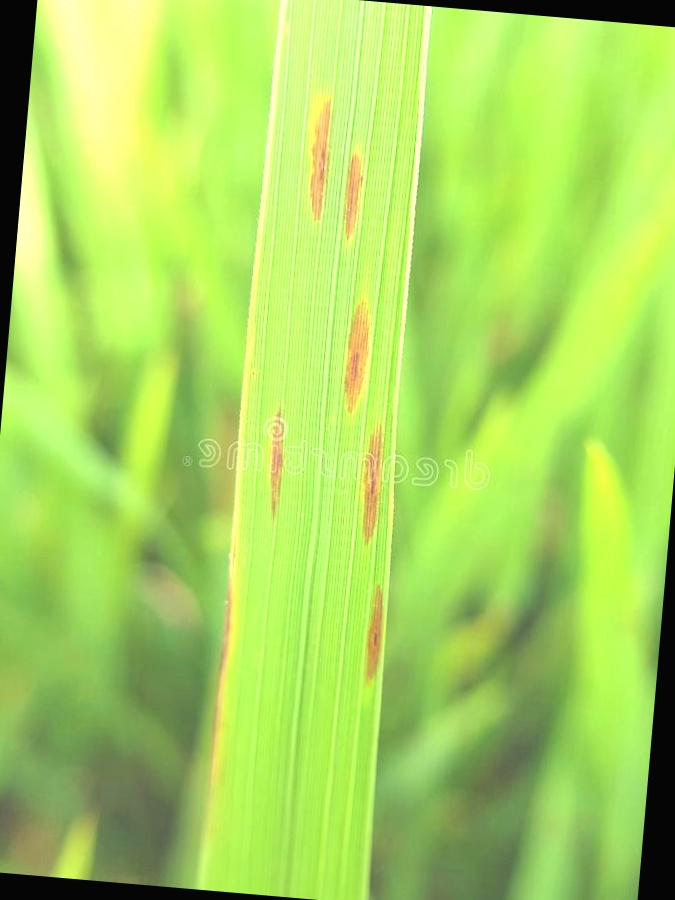Bacterial_Leaf_Blight: (340, 413, 409, 543), (300, 81, 347, 226), (350, 577, 408, 686), (256, 398, 297, 533), (337, 292, 382, 413), (343, 150, 370, 249)
